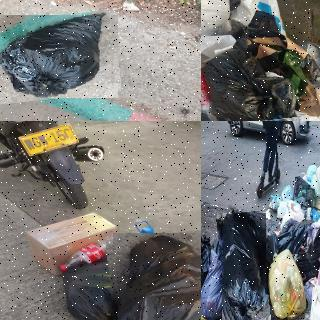Garbage: (0, 12, 119, 101), (109, 230, 201, 320), (201, 47, 302, 121), (57, 251, 137, 320), (219, 212, 268, 320), (268, 251, 308, 318), (201, 254, 228, 319), (201, 230, 211, 318), (308, 276, 320, 320)
